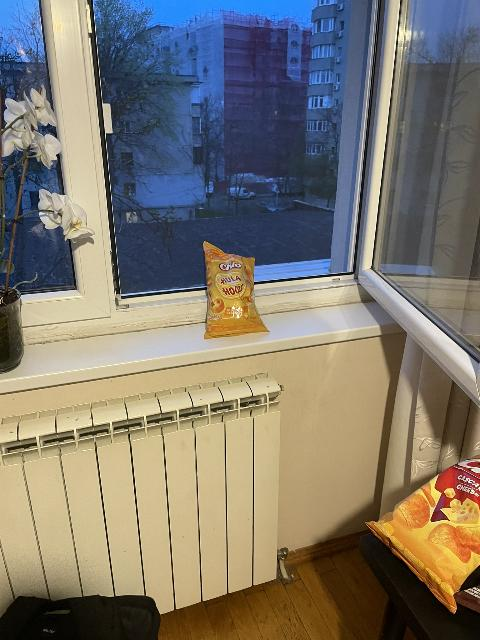Chio Cascaval 125g: (367, 456, 477, 613)
Chio Hula Hoops Cheese 70g: (203, 241, 271, 337)
